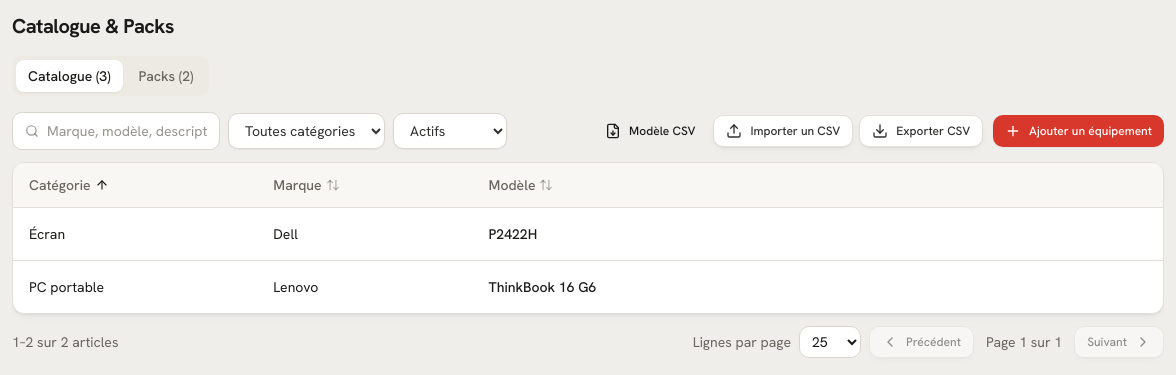
Test: CataloguePage › filtre le catalogue par la recherche texte (anti-rebond)
Expected: the text "Lenovo" is shown, [257,260,472,313]
In the field named "Rechercher un équipement du catalogue": (127, 131) [47,121,207,141], type "Dell"
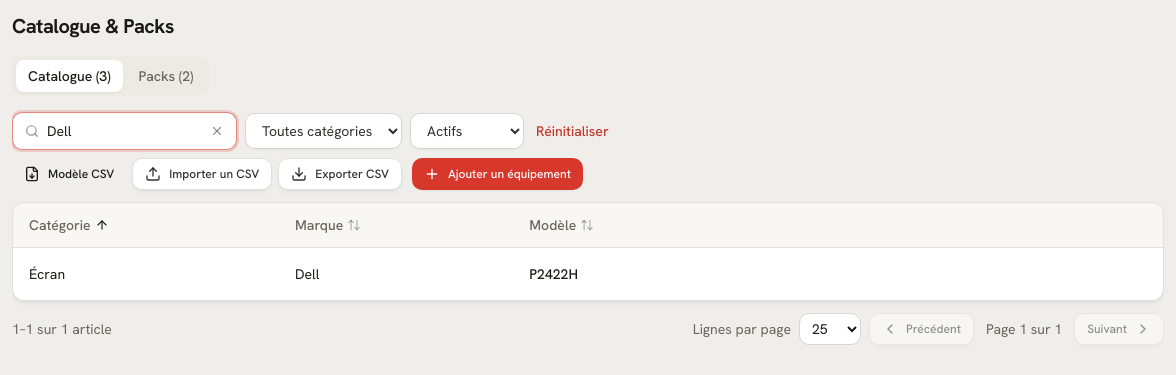
Expected: the text "Dell" is shown, [279,248,513,300]
Expected: the text "Lenovo" is gone
